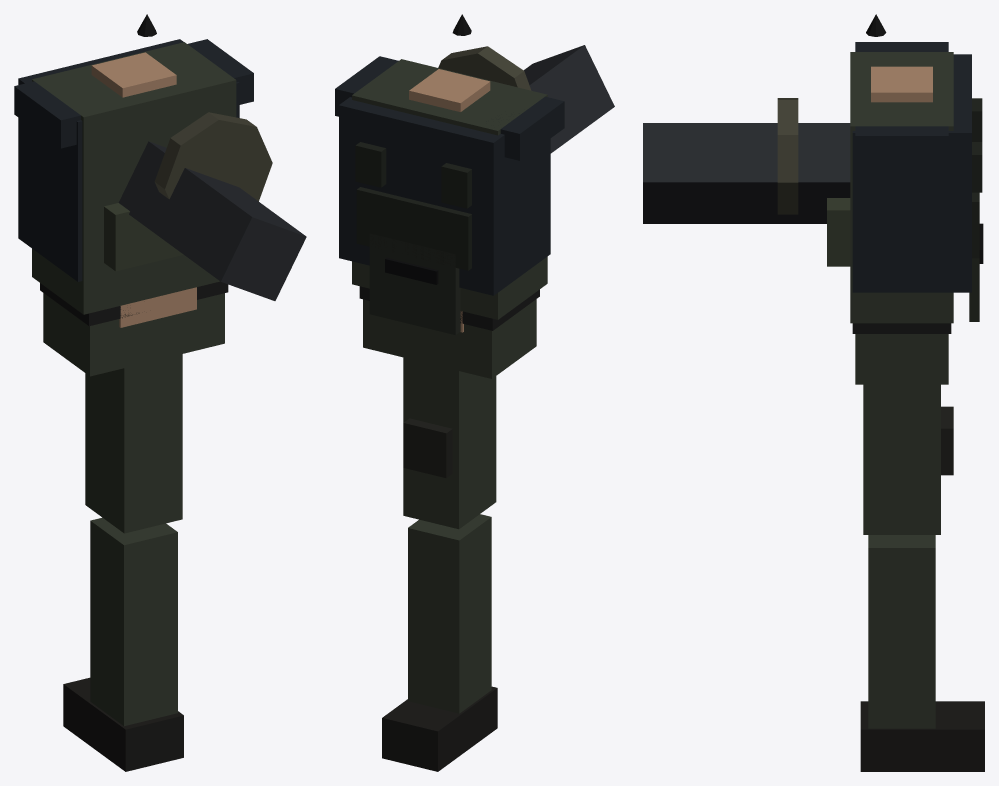
Rendered from operator_tachanka.glb.
3 renders of one model, left to right at view 1: azimuth 30°, elevation 25°; view 2: azimuth 150°, elevation 25°; view 3: azimuth 270°, elevation 25°, orthographic. The views are drawn at different scales.
Parts seen in each view (by area): view 1: torso, legL, hips, head; view 2: torso, legL, hips, head; view 3: torso, legL, hips, head.
Boxes of the visible parts, x1,y1,x2,y2 form: torso: (14, 14, 306, 314); legL: (63, 354, 183, 771); hips: (40, 281, 228, 376); head: (104, 203, 196, 327); torso: (335, 14, 614, 319); legL: (382, 357, 497, 771); hips: (359, 286, 539, 378); head: (369, 233, 463, 334); torso: (643, 14, 982, 323); legL: (860, 384, 984, 771); hips: (852, 323, 951, 384); head: (827, 198, 983, 321).
Bounding box in the file's own units: 0.43 × 1.58 × 0.66.
